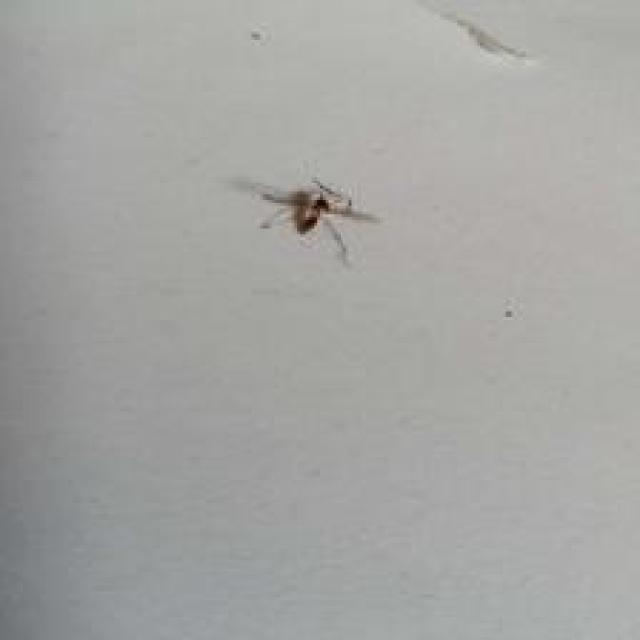Culex: (249, 174, 380, 266)
